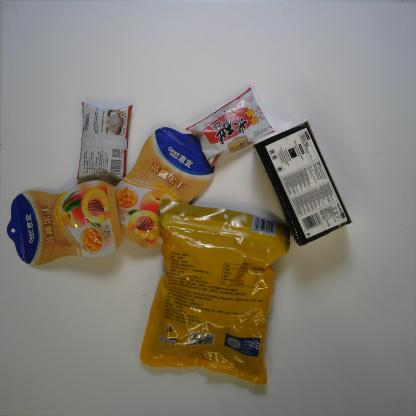Dried Food: (139, 199, 292, 392)
Dried Fruit: (113, 125, 218, 253), (5, 180, 124, 270)
Seasoner: (184, 85, 276, 169), (75, 100, 133, 184)
Tissue: (250, 119, 352, 248)
